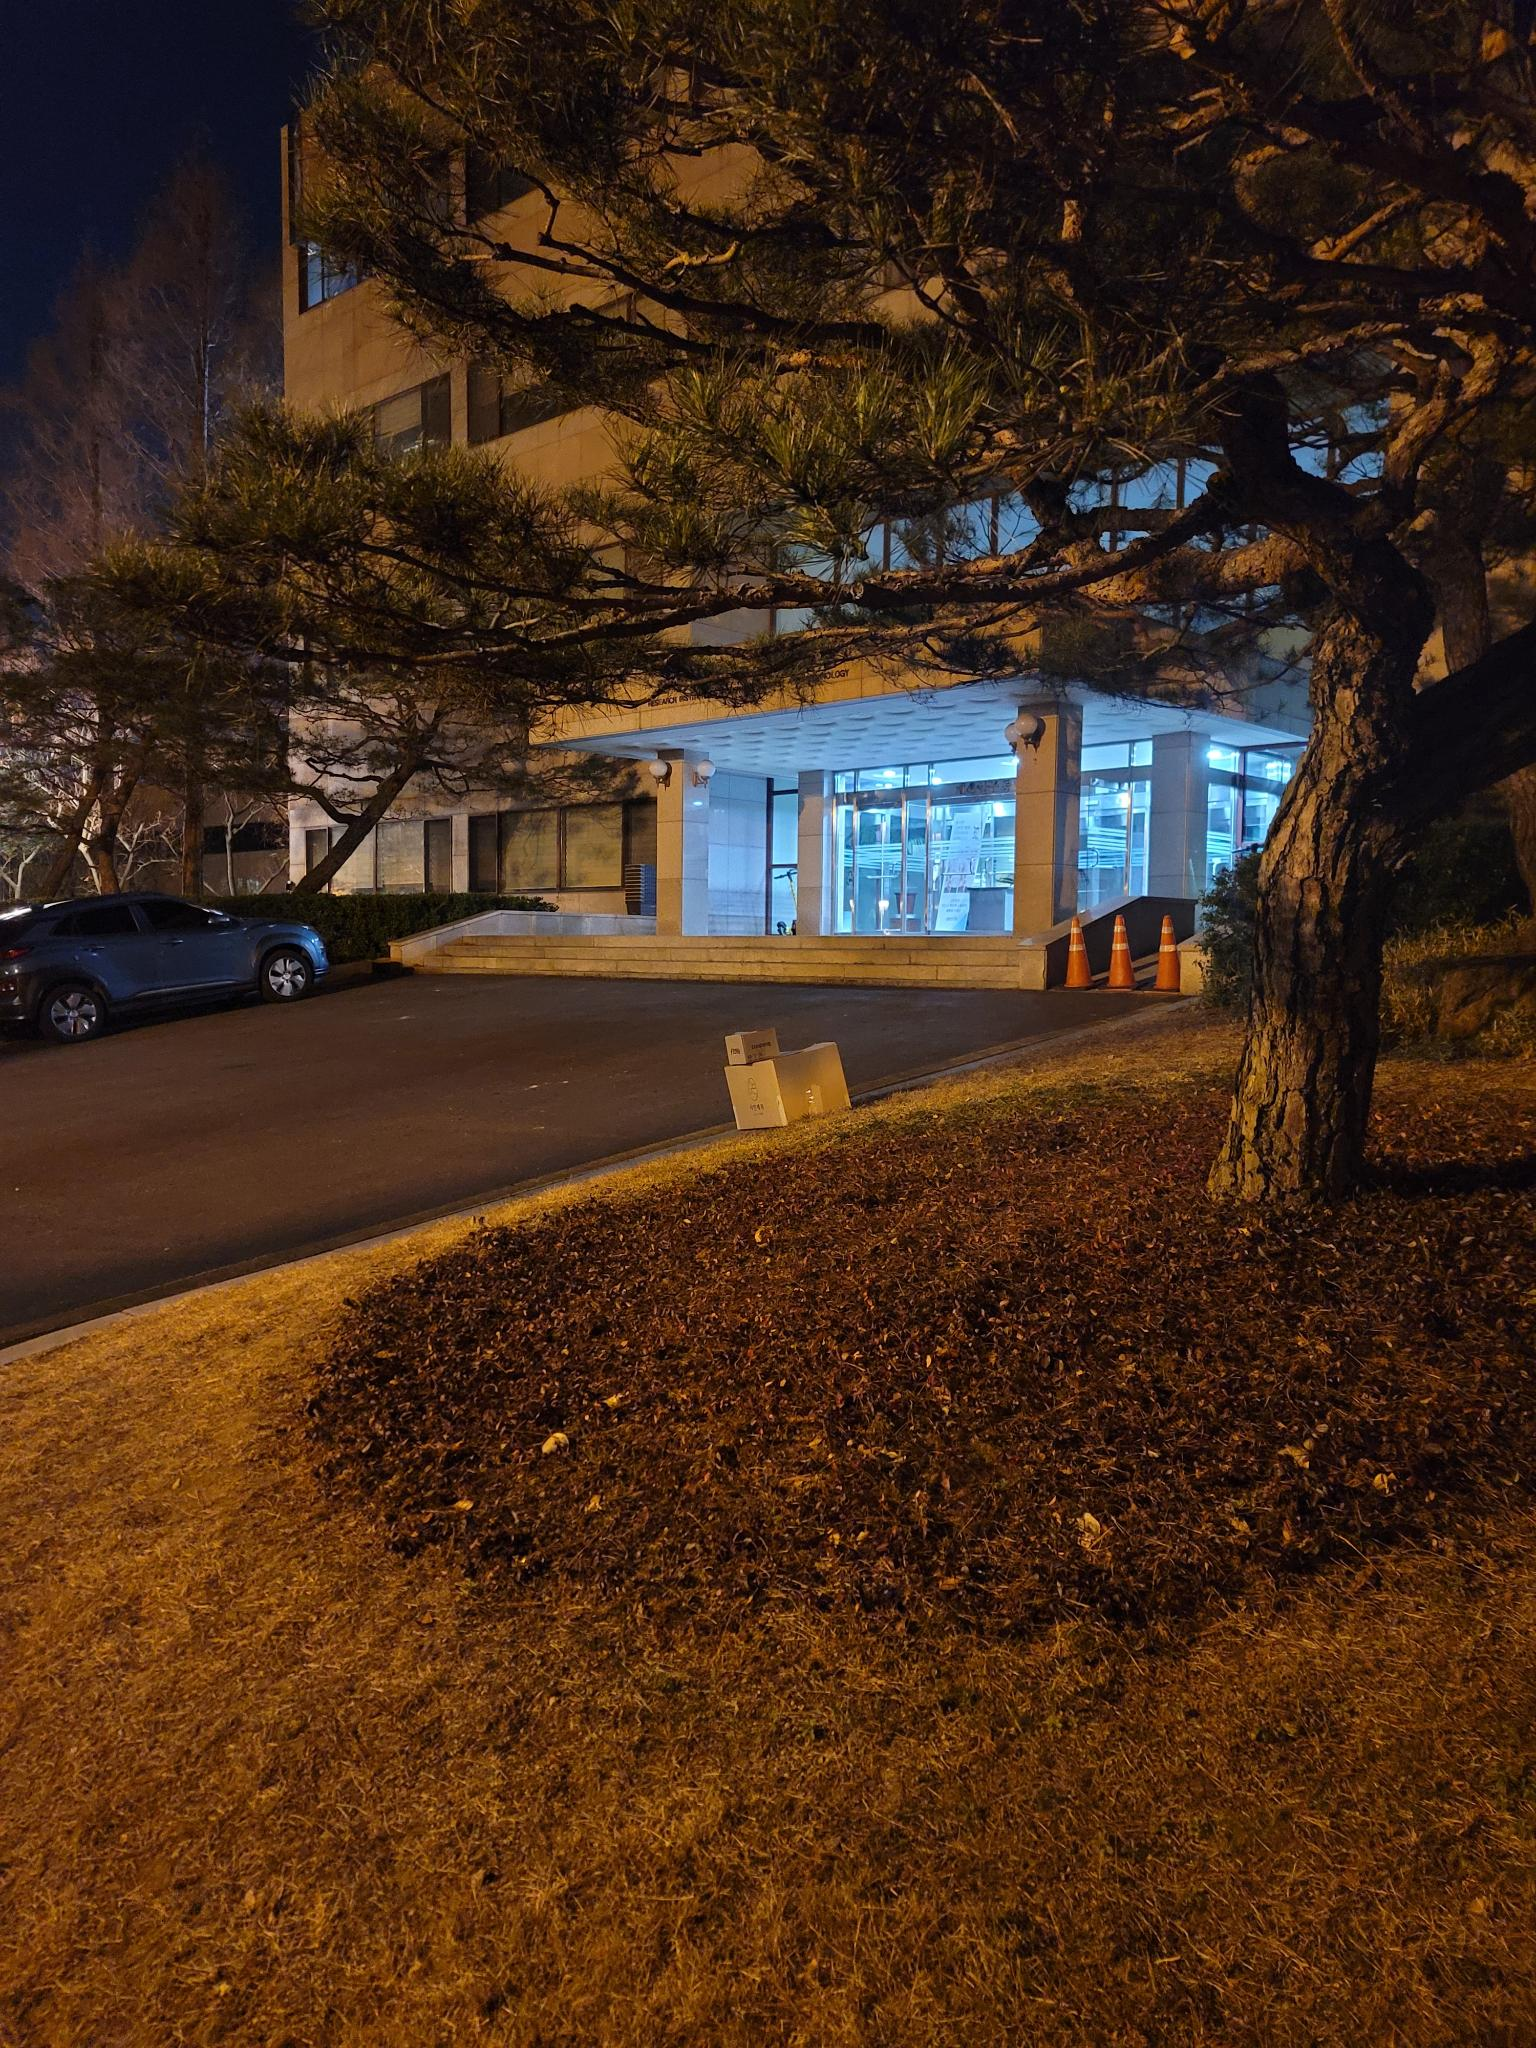Box: (724, 1039, 854, 1124), (705, 1016, 786, 1068)
